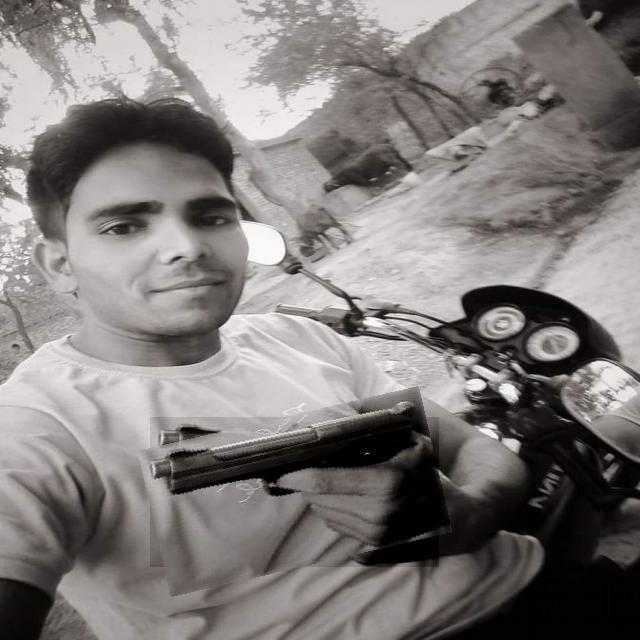handgun: (144, 402, 446, 582)
